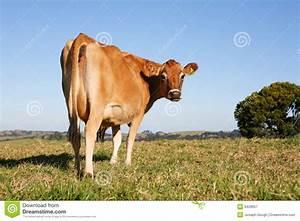cow: (59, 31, 198, 179)
